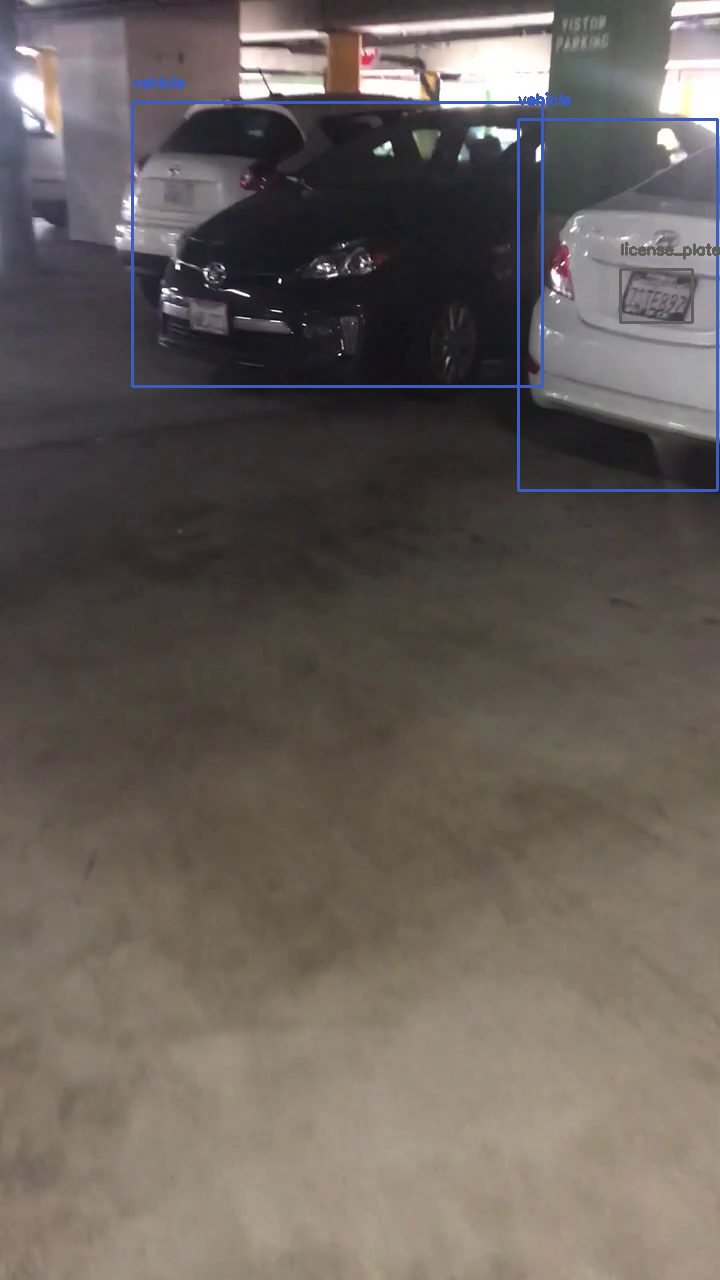license_plate: (620, 269, 692, 322)
vehicle: (132, 102, 542, 386), (518, 119, 717, 490)
